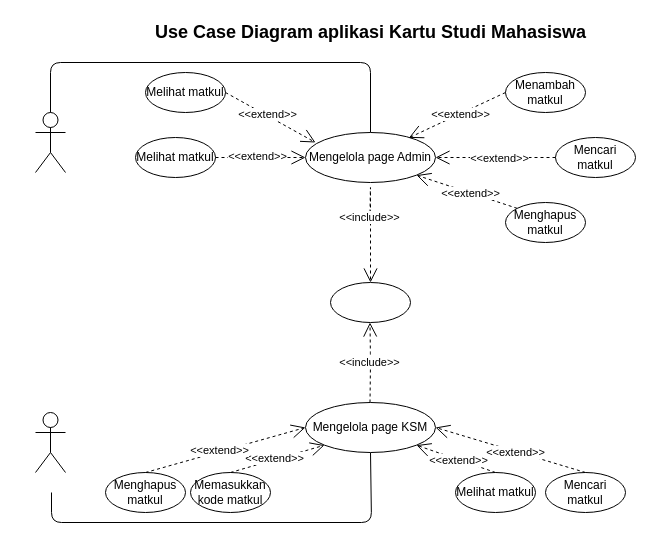
The diagram is 653 pixels wide and 541 high, and some of its shapes have lost their labels. Here are the shapes that lost their labels. From the top down, the centre of each, then its label:
the point at 50,142: Admin
the point at 370,302: Login
the point at 50,442: Mahasiswa/i
